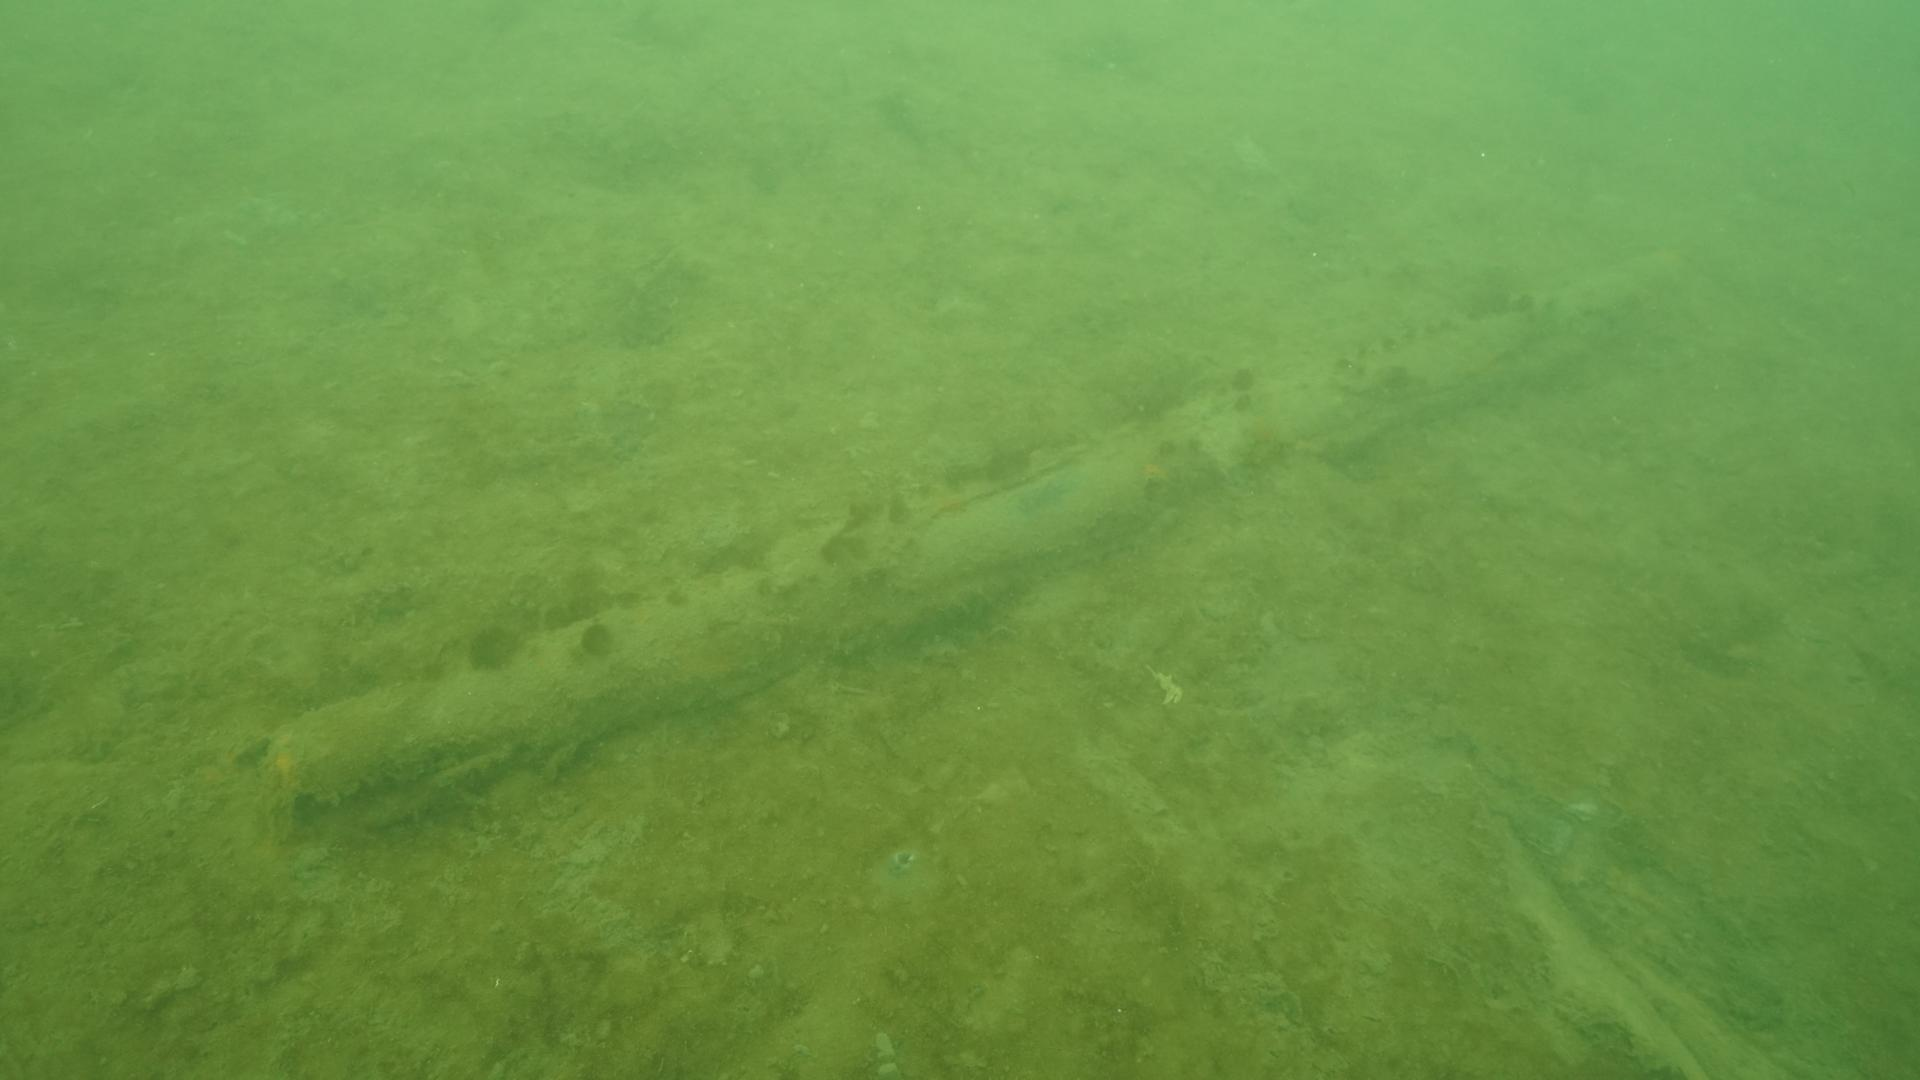wood: (269, 241, 1687, 827)
